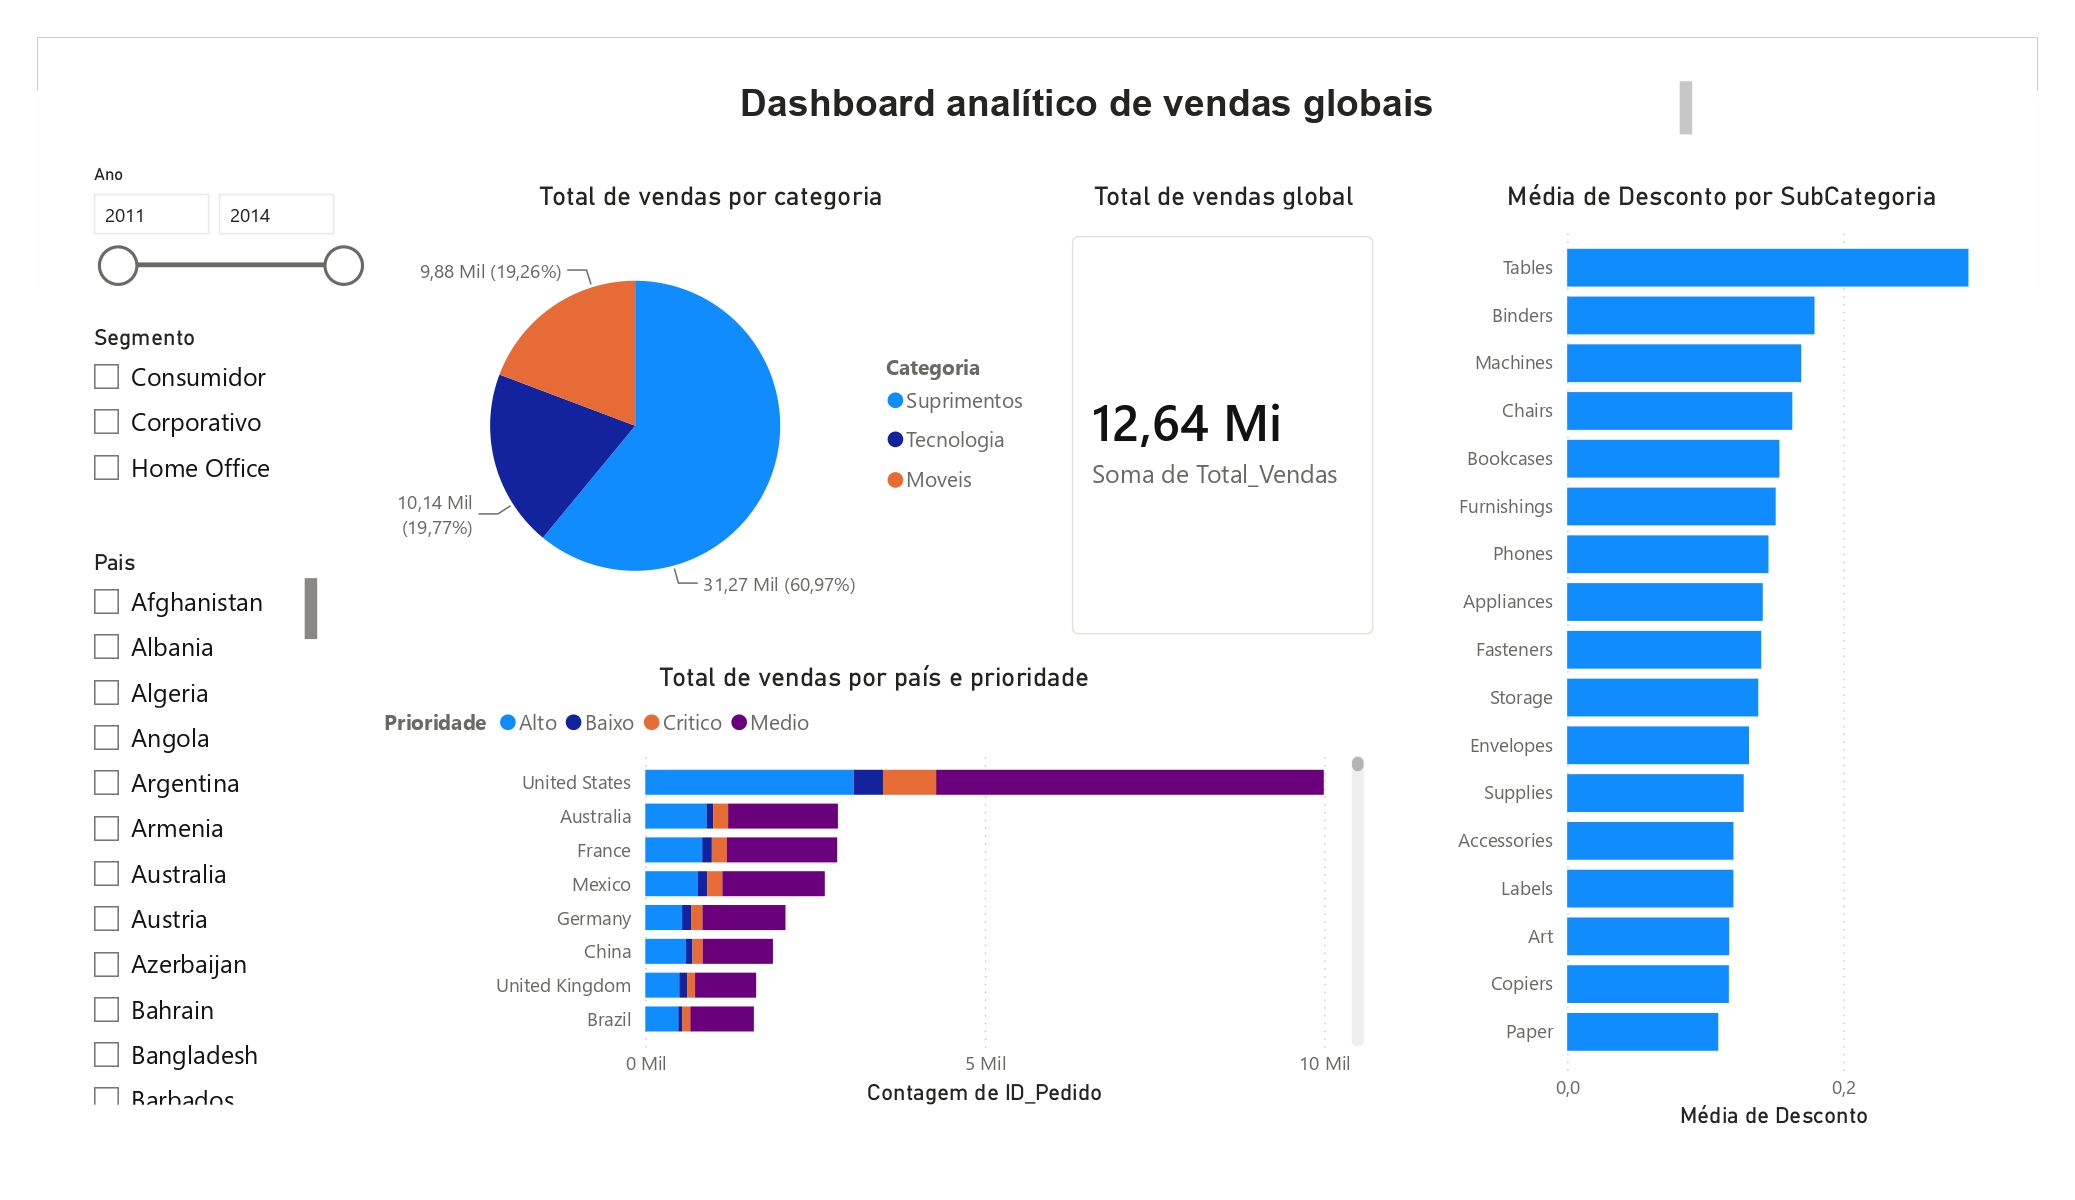

The dashboard page shown, as its layout file describes it:
{"tool":"powerbi","page":{"name":"Página 1","canvas":[1280,720],"ordinal":0},"visuals":[{"type":"cardVisual","title":"Total de vendas global ","fields":{"Data":["Sum(Vendas.Total_Vendas)"]},"box":[645.1,90.7,227.5,308.2],"z":0},{"type":"pieChart","title":"Total de vendas por categoria ","fields":{"Category":["Vendas.Categoria"],"Y":["CountNonNull(Vendas.ID_Pedido)"]},"box":[217.4,90.7,427.7,296.6],"z":1000},{"type":"barChart","title":"Total de vendas por país e prioridade","fields":{"Category":["Vendas.Pais"],"Y":["CountNonNull(Vendas.ID_Pedido)"],"Series":["Vendas.Prioridade"]},"box":[217.4,398.9,636.5,289.4],"z":2000},{"type":"clusteredBarChart","fields":{"Category":["Vendas.SubCategoria"],"Y":["Avg(Vendas.Desconto)"]},"box":[898.6,90.7,358.6,612],"z":3000},{"type":"slicer","fields":{"Values":["Vendas.Pais"]},"box":[23,322.6,161.3,365.8],"z":4000},{"type":"slicer","fields":{"Values":["Vendas.Segmento"]},"box":[23,178.6,161.3,139.7],"z":5000},{"type":"slicer","fields":{"Values":["Vendas.Data_Pedido.Variation.Hierarquia de datas.Ano"]},"box":[23,76.3,194.4,92.2],"z":6000},{"type":"textbox","box":[293.8,23,770.4,49],"z":7000}]}

Visuals, with their boxes on the page's 1280x720 design canvas (x1, y1, x2, y2). These are canvas units, not pixel positions in the 2075x1200 screenshot, which may show the page scaled, cropped or inside an application window:
"Total de vendas global " cardVisual: (x1=645, y1=91, x2=873, y2=399)
"Total de vendas por categoria " pieChart: (x1=217, y1=91, x2=645, y2=387)
"Total de vendas por país e prioridade" barChart: (x1=217, y1=399, x2=854, y2=688)
clusteredBarChart - Vendas.SubCategoria x Avg(Vendas.Desconto): (x1=899, y1=91, x2=1257, y2=703)
slicer - Vendas.Pais: (x1=23, y1=323, x2=184, y2=688)
slicer - Vendas.Segmento: (x1=23, y1=179, x2=184, y2=318)
slicer - Vendas.Data_Pedido.Variation.Hierarquia de datas.Ano: (x1=23, y1=76, x2=217, y2=168)
textbox: (x1=294, y1=23, x2=1064, y2=72)
